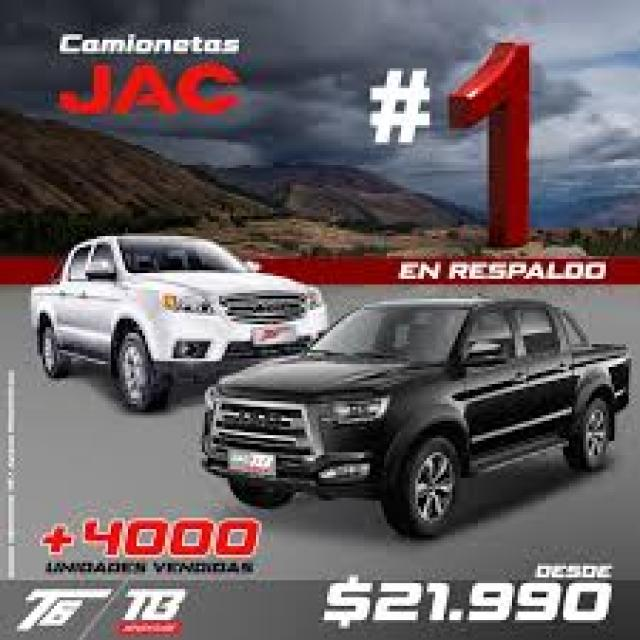CMT: (202, 296, 628, 543), (32, 231, 321, 423)
